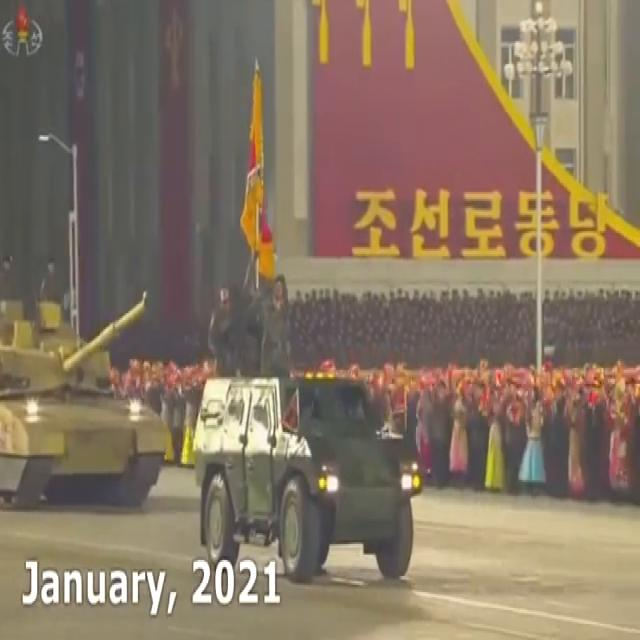north tank: (0, 270, 174, 526)
